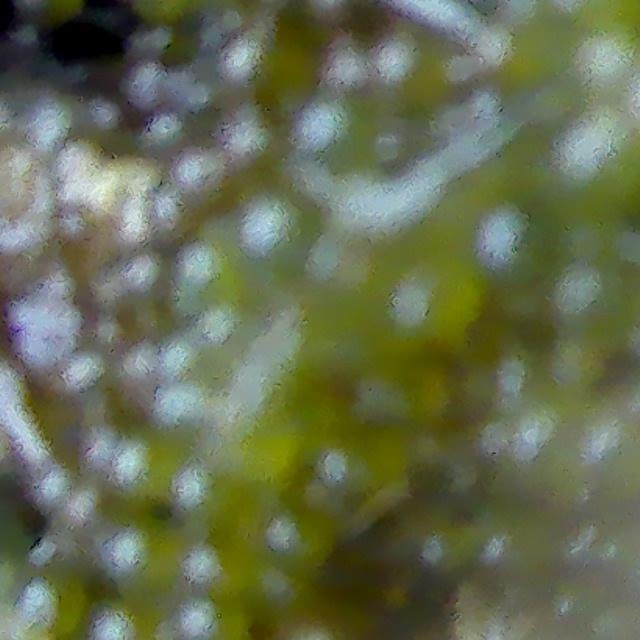SeaGrape: (390, 250, 491, 350), (556, 107, 640, 213), (237, 189, 323, 276), (549, 257, 627, 332), (173, 143, 236, 221), (116, 435, 186, 505), (111, 521, 180, 591), (143, 180, 203, 251), (121, 343, 169, 413), (92, 594, 161, 640), (173, 595, 242, 640)
